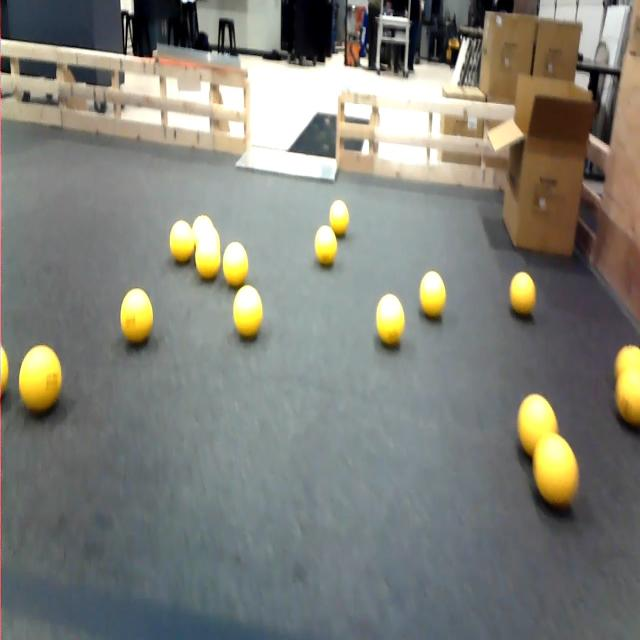fuel: (523, 421, 582, 524), (503, 389, 567, 460), (17, 338, 68, 421), (117, 278, 162, 349), (223, 277, 269, 345), (416, 254, 455, 327), (509, 258, 545, 320), (610, 363, 640, 435), (311, 218, 344, 282), (160, 210, 195, 270), (191, 232, 226, 290), (373, 286, 404, 350), (323, 190, 353, 240), (192, 200, 224, 238), (0, 324, 13, 415), (223, 242, 251, 284), (616, 343, 640, 378)
